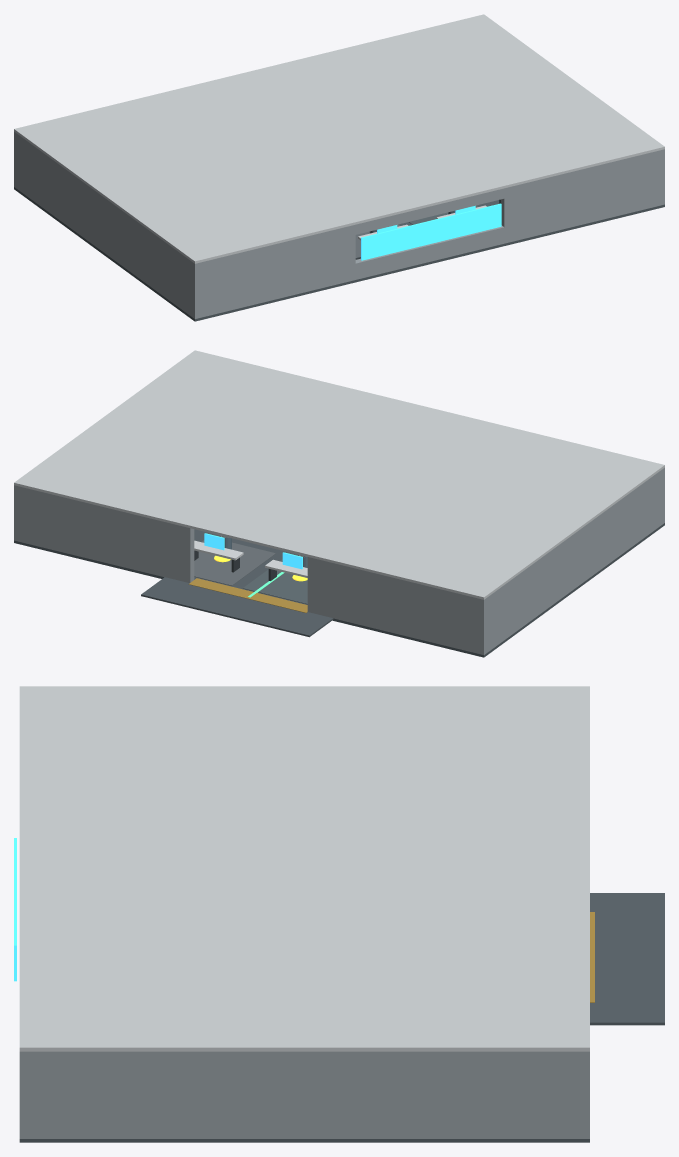
The model's file is fantasy3d-workshop-vlow.glb.
3 views of the same model, one above another, from view 1: azimuth 30°, elevation 25°; view 2: azimuth 150°, elevation 25°; view 3: azimuth 270°, elevation 25° (orthographic). The views are drawn at different scales.
Parts seen in each view (by area): view 1: Ceiling_Substrate, NorthWall_Substrate, WestWall_Substrate, WindowBacking, Floor_Substrate; view 2: Ceiling_Substrate, SouthWall_Substrate, WestWall_Substrate, ExteriorApron, Floor_Substrate, Zone_inspector, Zone_production, EntryThreshold; view 3: Ceiling_Substrate, EastWall_Substrate, ExteriorApron, Floor_Substrate.
Part boxes in pixels (<box>): Ceiling_Substrate: <box>14,14,664,263</box>; NorthWall_Substrate: <box>191,149,664,318</box>; WestWall_Substrate: <box>14,131,201,318</box>; WindowBacking: <box>361,203,501,260</box>; Floor_Substrate: <box>14,187,664,321</box>; Ceiling_Substrate: <box>14,350,664,599</box>; SouthWall_Substrate: <box>21,487,487,654</box>; WestWall_Substrate: <box>477,470,660,654</box>; ExteriorApron: <box>141,577,333,637</box>; Floor_Substrate: <box>14,523,664,657</box>; Zone_inspector: <box>194,540,275,585</box>; Zone_production: <box>242,559,307,604</box>; EntryThreshold: <box>188,578,307,612</box>; Ceiling_Substrate: <box>19,686,589,1051</box>; EastWall_Substrate: <box>19,1051,589,1138</box>; ExteriorApron: <box>590,893,664,1025</box>; Floor_Substrate: <box>19,1139,589,1142</box>.
Size of the model in its own units: 24 by 2.94 by 18.26.
